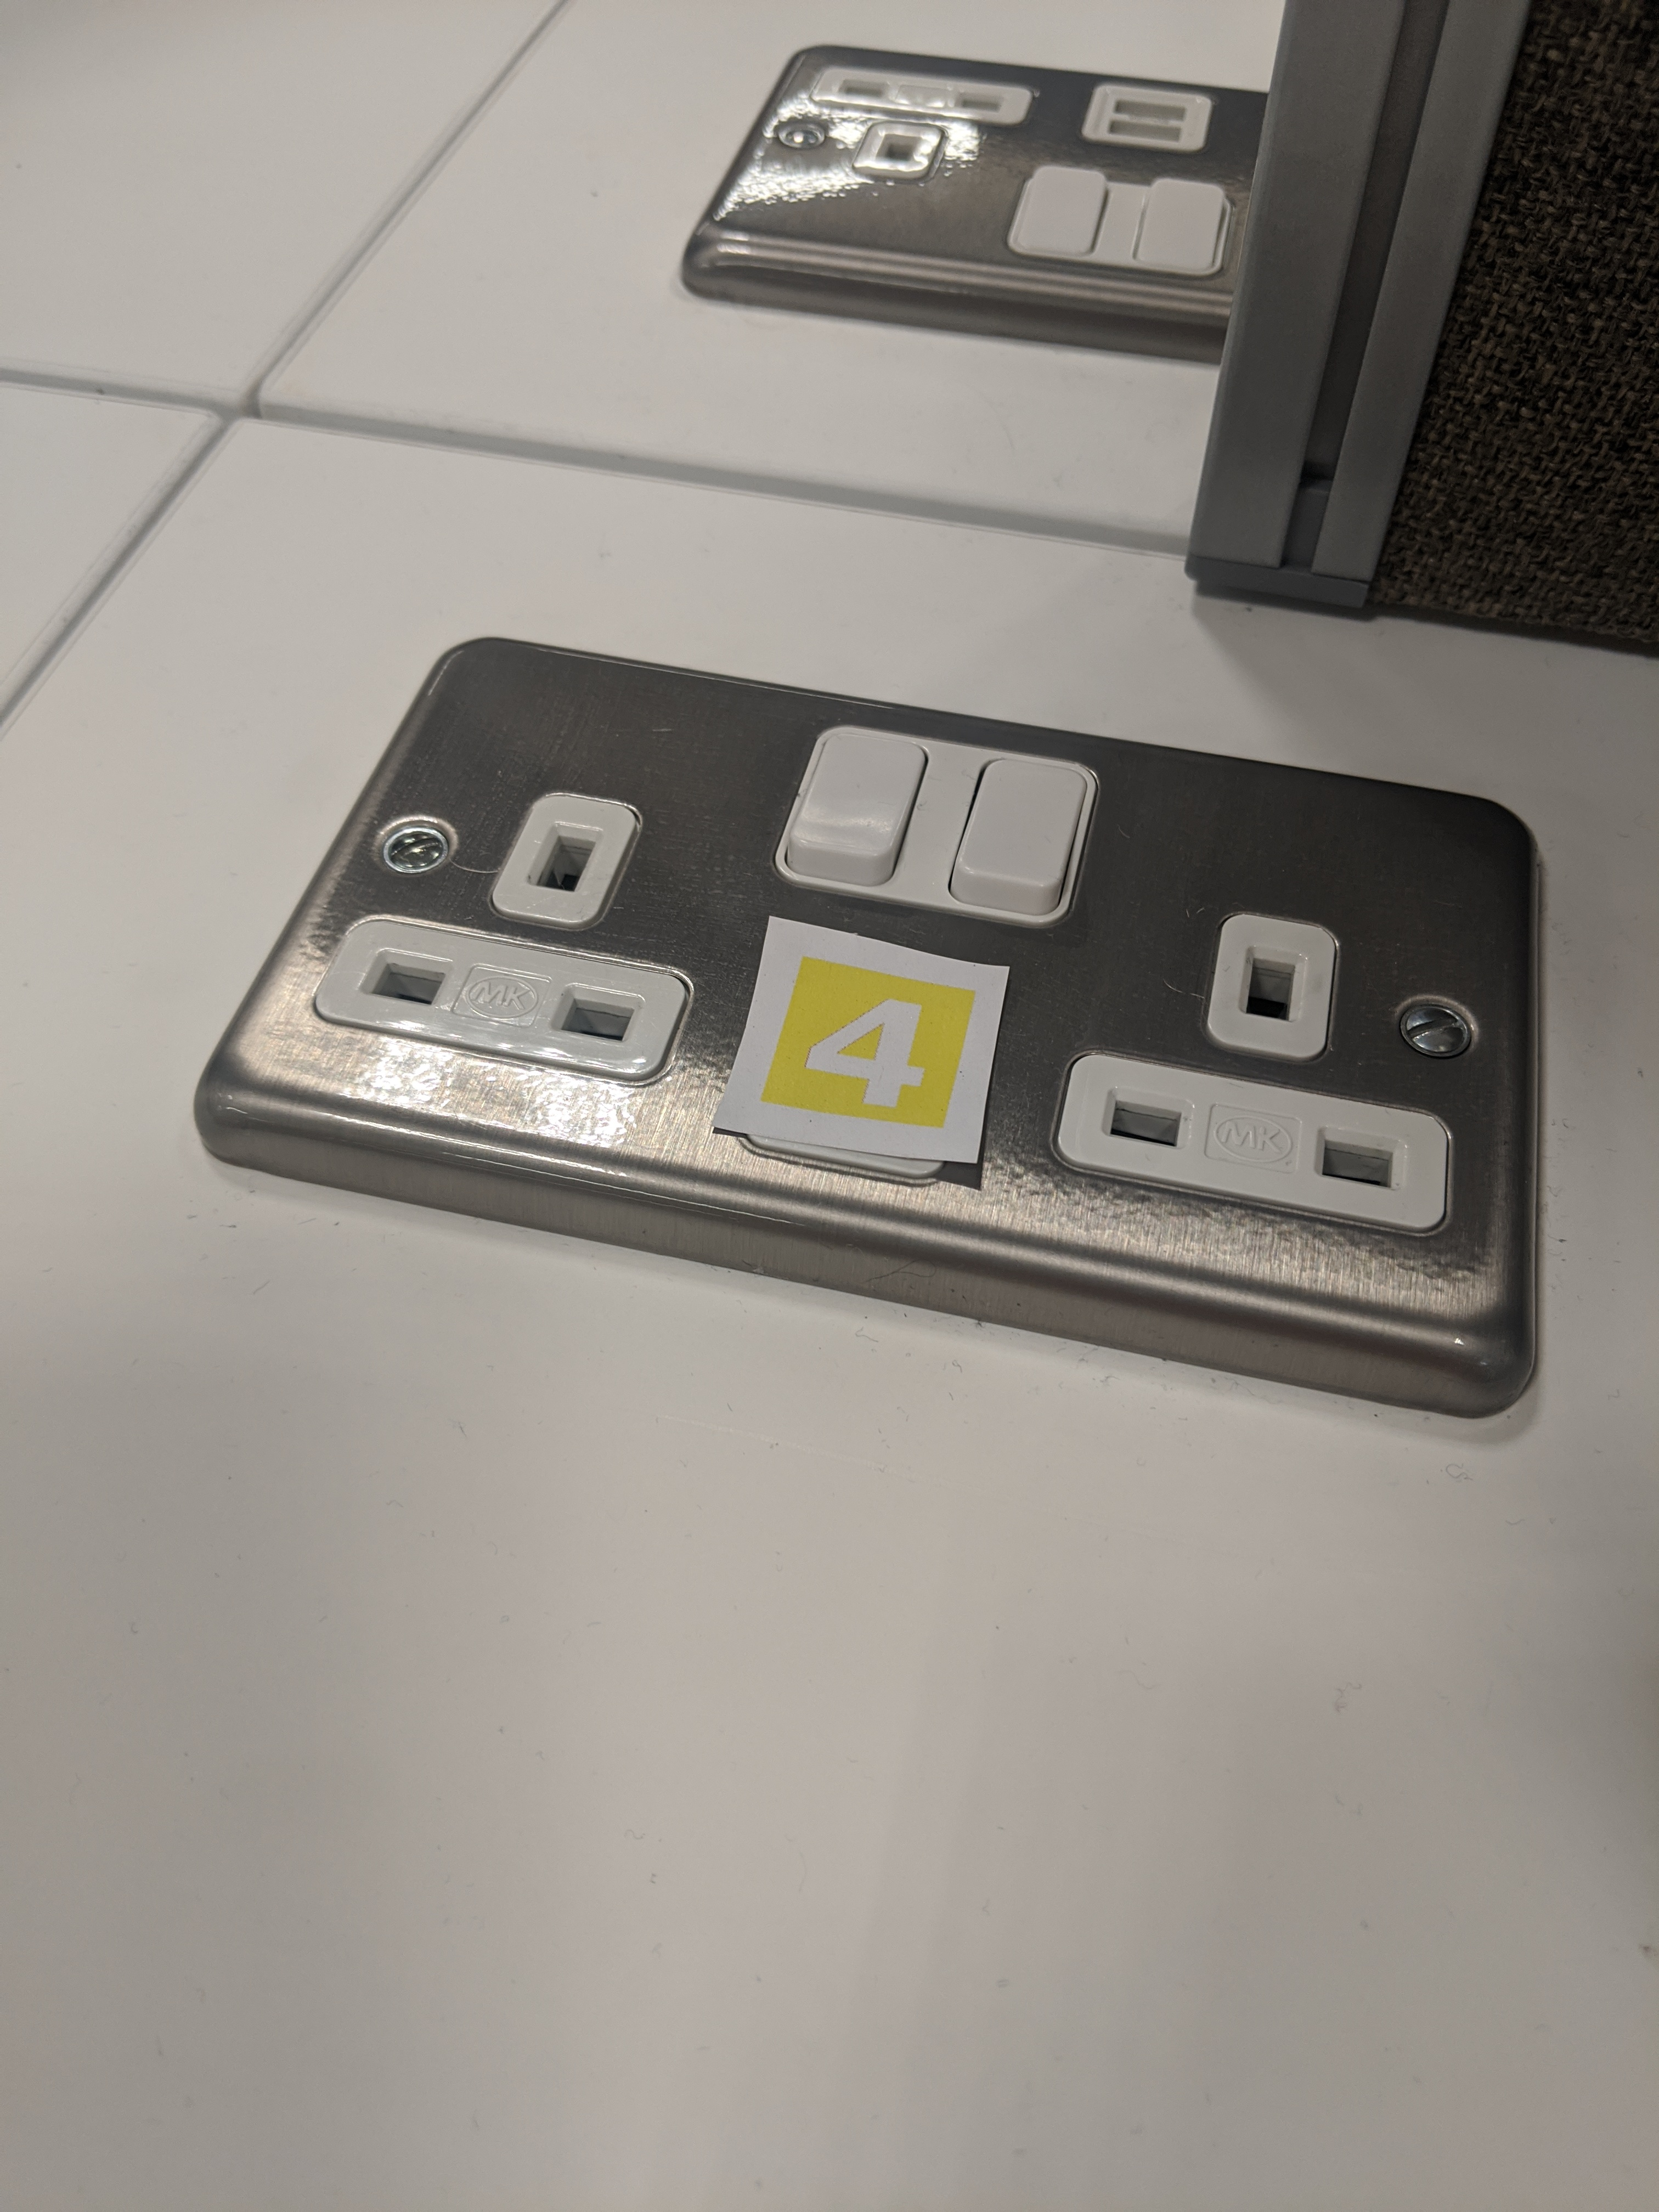yellow marker: (725, 914, 1030, 1163)
